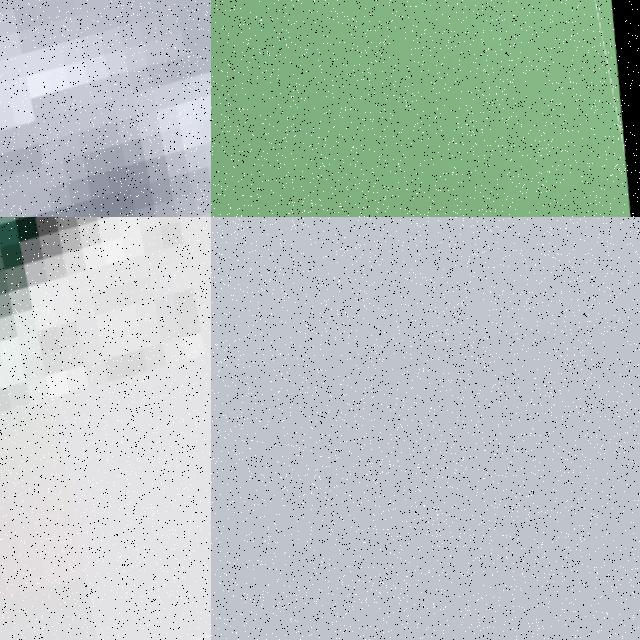drone: (211, 0, 640, 217), (0, 217, 211, 640), (0, 0, 211, 217)
